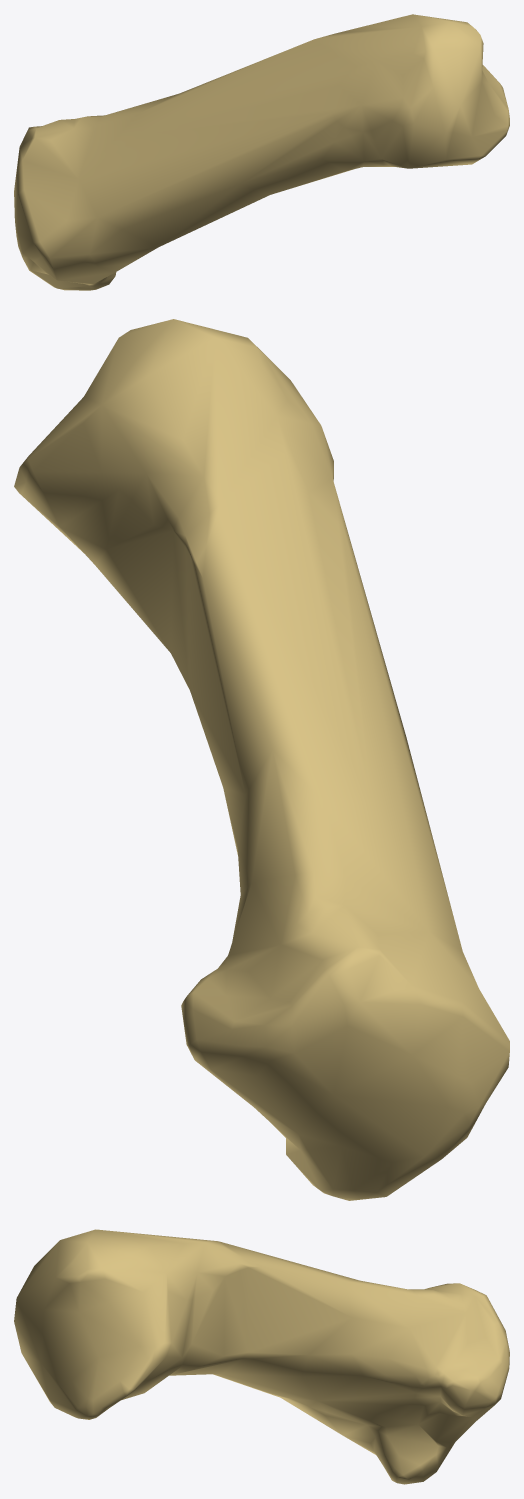
3 views of the same model, one above another, from view 1: azimuth 30°, elevation 25°; view 2: azimuth 150°, elevation 25°; view 3: azimuth 270°, elevation 25° (orthographic). The views are drawn at different scales.
Parts seen in each view (by area): view 1: 右侧第一掌骨; view 2: 右侧第一掌骨; view 3: 右侧第一掌骨.
Part boxes in pixels (left/top/right/bottom): 右侧第一掌骨: left=14, top=14, right=509, bottom=290; 右侧第一掌骨: left=14, top=319, right=509, bottom=1200; 右侧第一掌骨: left=14, top=1229, right=509, bottom=1484.
Bounding box in the file's own units: 0.057 × 0.0464 × 0.0565.
